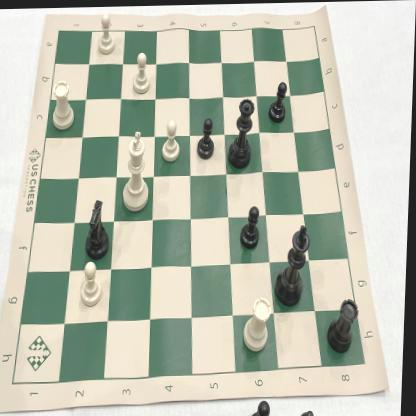black-king: (276, 220, 314, 310)
black-pawn: (238, 204, 263, 254), (268, 79, 290, 124), (196, 116, 218, 160)
black-queen: (226, 94, 258, 171)
black-rook: (328, 296, 362, 354), (84, 197, 113, 258)
white-king: (120, 128, 156, 212)
white-pawn: (79, 260, 106, 306), (160, 116, 183, 163), (131, 50, 153, 97), (94, 10, 116, 56)
white-rook: (243, 295, 275, 356), (48, 77, 78, 131)
